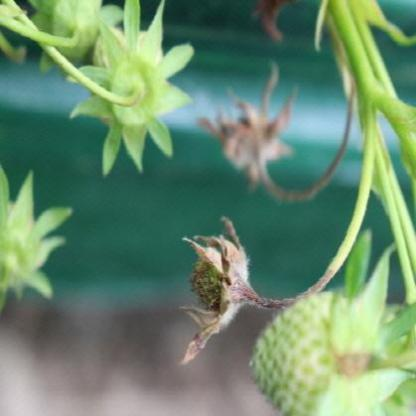Strawberry_Gray_Mold: (175, 216, 289, 366)
